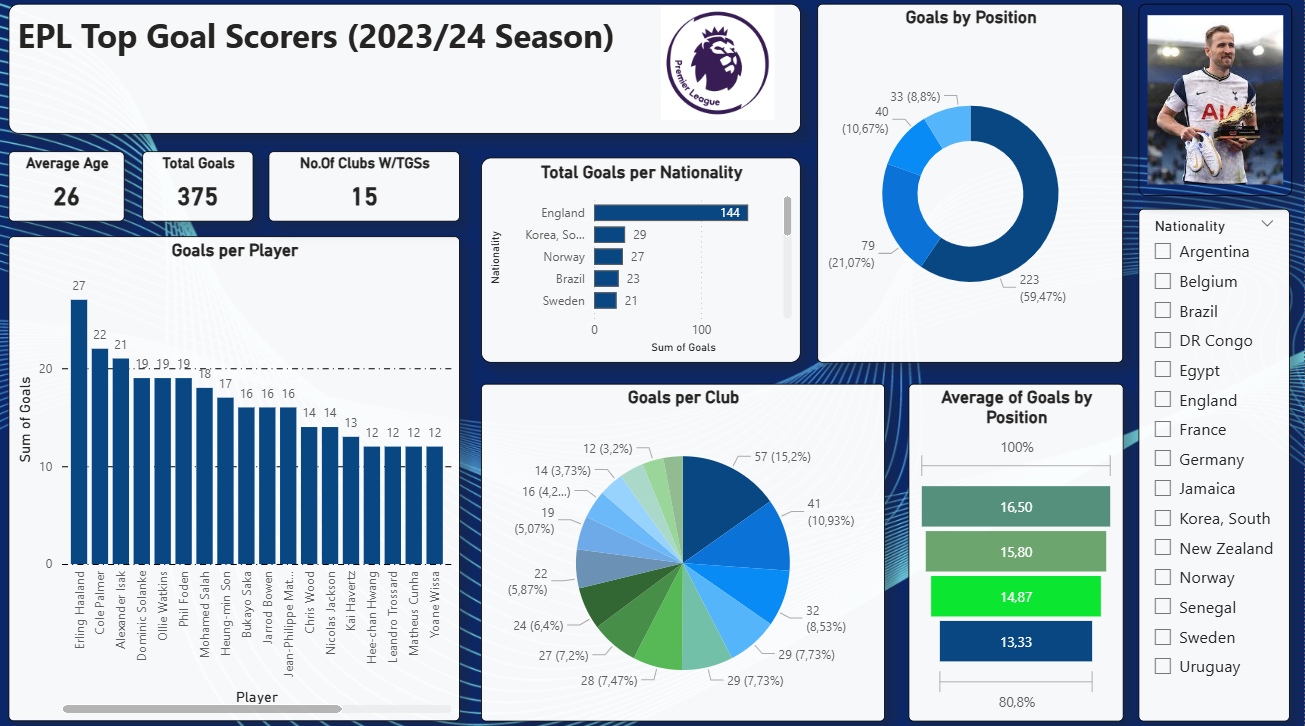

The page's visual inventory and layout, read from the dashboard file:
{"tool":"powerbi","page":{"name":"Page 1","canvas":[1280,720],"ordinal":0},"visuals":[{"type":"card","title":"Average Age","fields":{"Values":["Sheet1.Average Age"]},"box":[12.2,152.9,113.7,68.5],"z":0},{"type":"card","title":"Total Goals","fields":{"Values":["Sum(Sheet1.Goals)"]},"box":[143.1,152.9,108.8,68.5],"z":1000},{"type":"pieChart","title":"Goals per Club","fields":{"Y":["Sum(Sheet1.Goals)"],"Category":["Sheet1.Club"]},"box":[474.5,380.3,395,330.2],"z":2000},{"type":"donutChart","title":"Goals by Position","fields":{"Y":["Sum(Sheet1.Goals)"],"Category":["Sheet1.Position"]},"box":[803.4,8.6,299.6,351],"z":3000},{"type":"columnChart","title":"Goals per Player","fields":{"Y":["Sum(Sheet1.Goals)"],"Category":["Sheet1.Player"]},"box":[12.2,236,441.4,474.5],"z":4000},{"type":"funnel","fields":{"Category":["Sheet1.Position"],"Y":["Avg(Sheet1.Goals)"]},"box":[892.7,380.3,210.3,330.2],"z":5000},{"type":"slicer","fields":{"Values":["Sheet1.Nationality"]},"box":[1117.7,209.1,148,501.4],"z":6000},{"type":"textbox","box":[12.2,8.6,775.3,127.2],"z":7000},{"type":"card","title":"No.Of Clubs W/TGSs","fields":{"Values":["Sheet1.No. of Clubs with Goal Scorers"]},"box":[266.6,152.9,187.1,68.5],"z":8000},{"type":"barChart","title":"Total Goals per Nationality","fields":{"Category":["Sheet1.Nationality"],"Y":["Sum(Sheet1.Goals)"]},"box":[474.5,159,313,200.5],"z":9000},{"type":"image","box":[1117.7,8.6,150.4,188.3],"z":10000},{"type":"image","box":[578.4,6.1,255.6,121.1],"z":11000}]}

Visuals, with their boxes in screenshot pixels (x1, y1, x2, y2), scaled from the page's 1280x720 canvas onto the 1305x726 screenshot:
"Average Age" card: rect(12, 154, 128, 223)
"Total Goals" card: rect(146, 154, 257, 223)
"Goals per Club" pieChart: rect(484, 383, 886, 716)
"Goals by Position" donutChart: rect(819, 9, 1125, 363)
"Goals per Player" columnChart: rect(12, 238, 462, 716)
funnel - Sheet1.Position x Avg(Sheet1.Goals): rect(910, 383, 1125, 716)
slicer - Sheet1.Nationality: rect(1140, 211, 1290, 716)
textbox: rect(12, 9, 803, 137)
"No.Of Clubs W/TGSs" card: rect(272, 154, 463, 223)
"Total Goals per Nationality" barChart: rect(484, 160, 803, 362)
image: rect(1140, 9, 1293, 199)
image: rect(590, 6, 850, 128)
